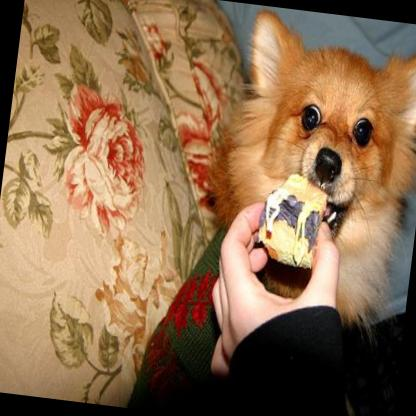Pomeranian: (189, 2, 416, 338)
